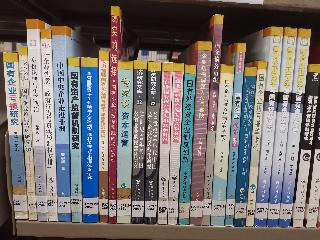book-spine: (265, 28, 298, 228), (279, 28, 311, 228), (253, 26, 283, 230), (199, 15, 226, 227), (290, 63, 320, 228), (222, 42, 247, 228), (231, 66, 259, 229), (26, 17, 48, 221), (189, 41, 212, 227), (209, 64, 234, 226), (3, 53, 27, 220), (52, 26, 71, 223), (245, 61, 267, 228), (41, 29, 58, 221), (19, 46, 37, 221), (80, 58, 99, 223), (177, 65, 196, 227), (155, 61, 173, 226), (66, 57, 83, 224), (107, 7, 120, 224), (116, 62, 133, 225), (143, 62, 160, 225), (131, 60, 147, 225), (167, 62, 183, 226), (100, 51, 109, 224)
